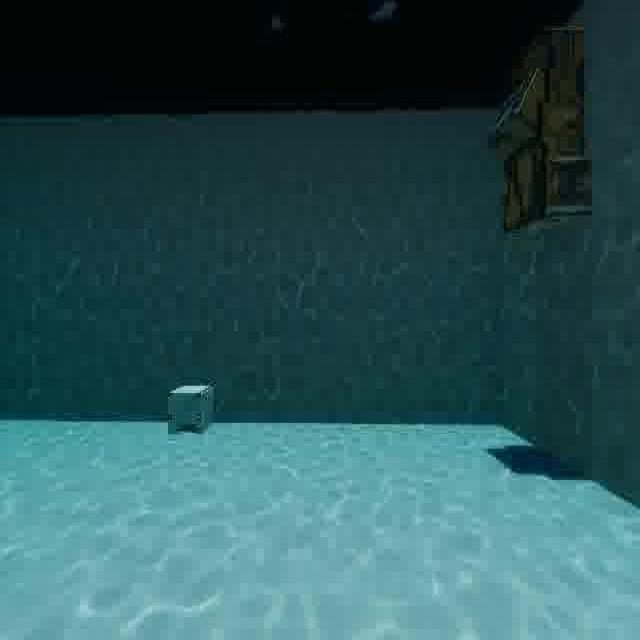Control Panel: (478, 4, 600, 246)
Docking Station: (157, 364, 228, 454)
